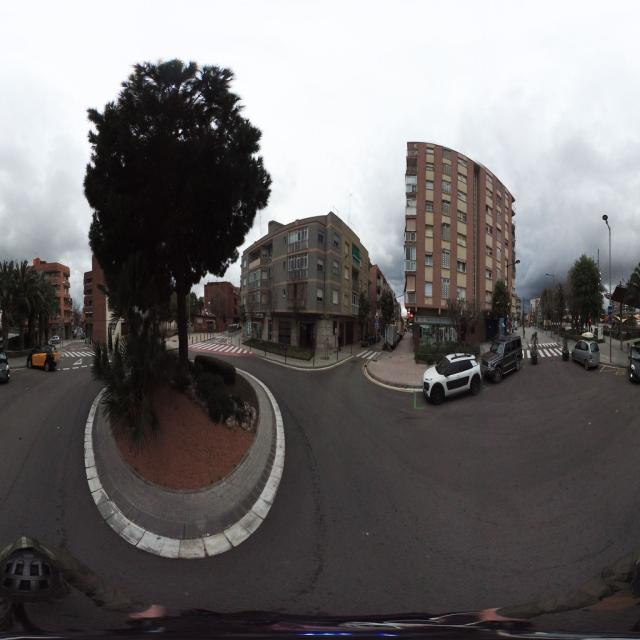forb_stopping: (608, 316, 612, 325), (506, 321, 509, 328)
